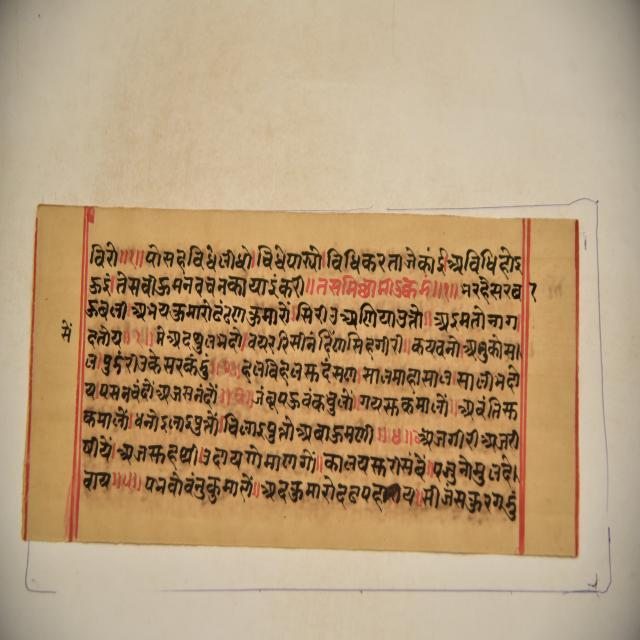text_paragraph: (19, 201, 579, 559)
